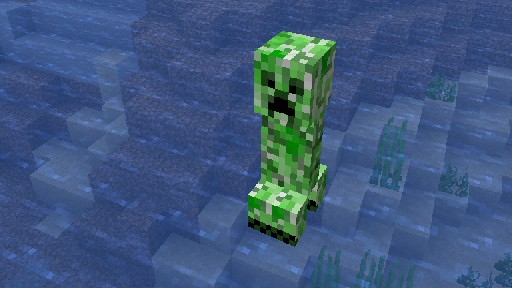creeper: (247, 30, 336, 247)
